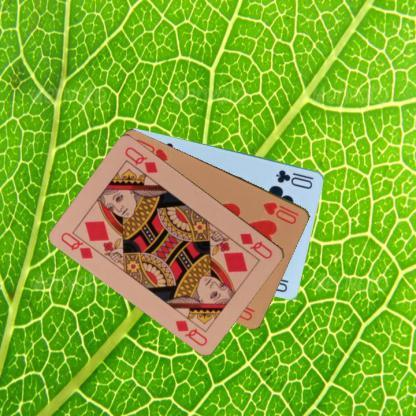10c: (273, 167, 315, 190)
10h: (260, 198, 300, 226)
Qd: (58, 228, 102, 260), (237, 228, 275, 260)
